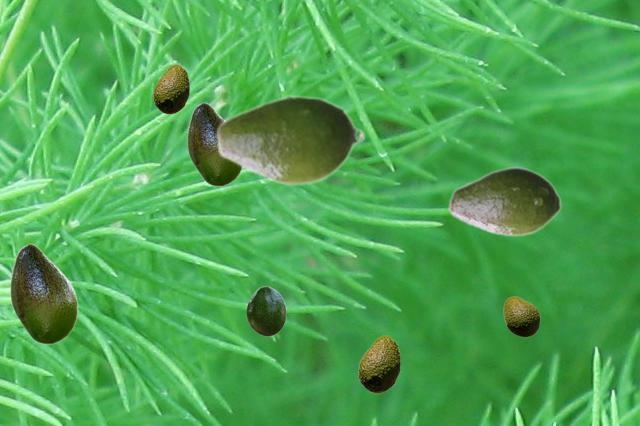avocado: (214, 93, 365, 186), (448, 166, 561, 236), (10, 243, 77, 343), (187, 102, 241, 185), (358, 335, 399, 392), (246, 286, 285, 335), (153, 64, 188, 113), (503, 296, 539, 336)
